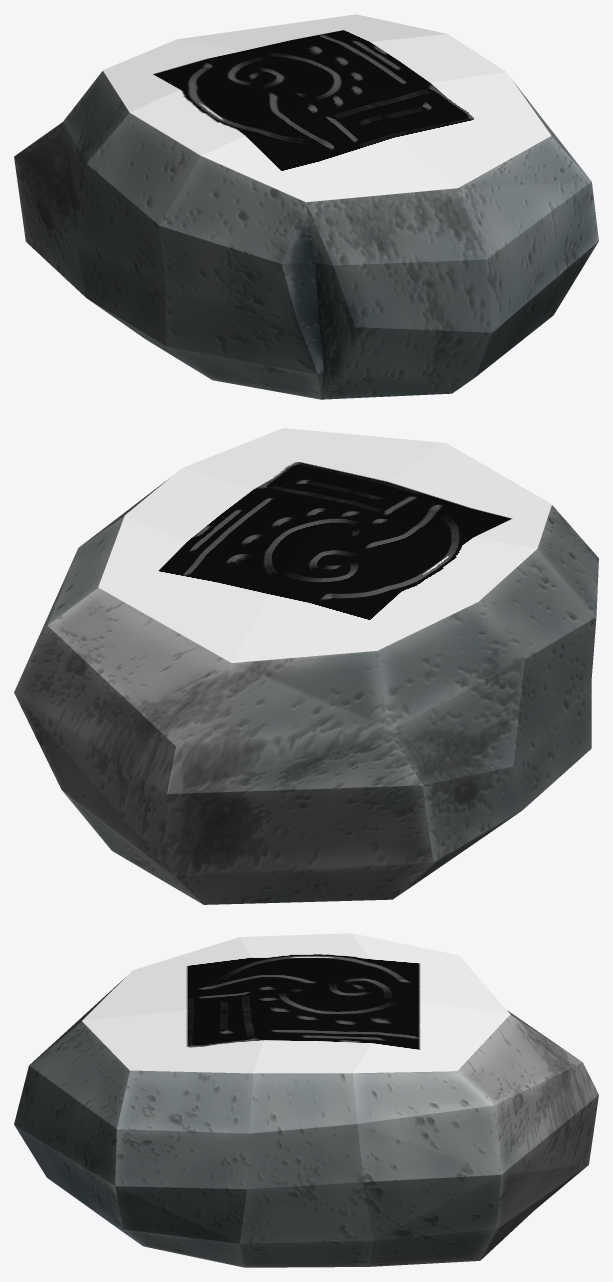
File: obj_rune.FBX
3 renders of one model, top to bottom at view 1: azimuth 30°, elevation 25°; view 2: azimuth 150°, elevation 25°; view 3: azimuth 270°, elevation 25°, orthographic. The views are drawn at different scales.
Parts seen in each view (by area): view 1: obj_rune; view 2: obj_rune; view 3: obj_rune.
Part boxes in pixels (bbox=[...]): obj_rune: bbox=[14, 14, 598, 399]; obj_rune: bbox=[14, 428, 598, 904]; obj_rune: bbox=[14, 933, 598, 1267].
Bounding box in the file's own units: 8.04 × 4.66 × 11.26.
Materials: 2 (2 with a texture image).
